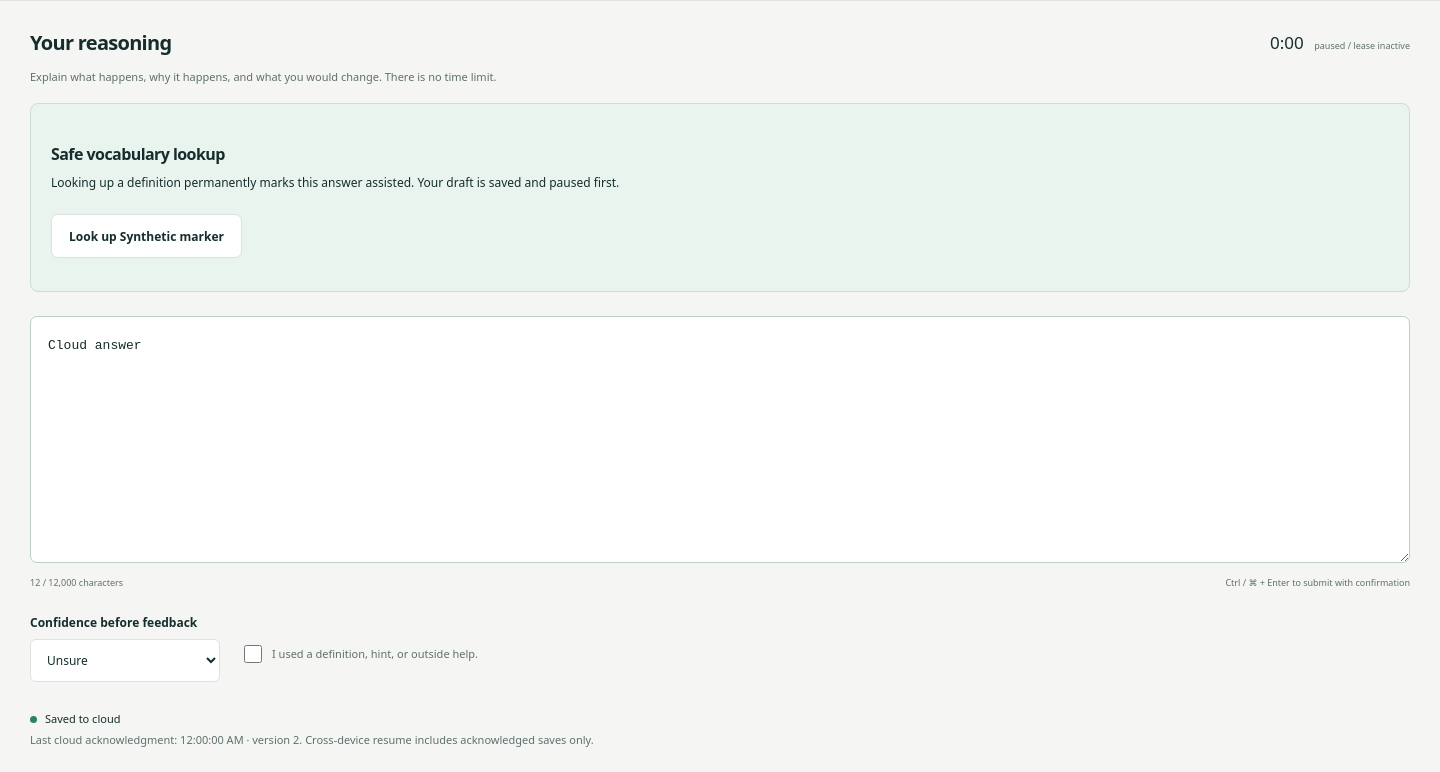
it: saves local reasoning before lookup and reveals a definition only after irreversible cloud assistance
The image size is (1440, 772).
Expected: the text box showing "Cloud answer" is shown, [30,316,1410,563]
Click the button "Look up Synthetic marker".
click(146, 236)  # box [51,214,242,258]
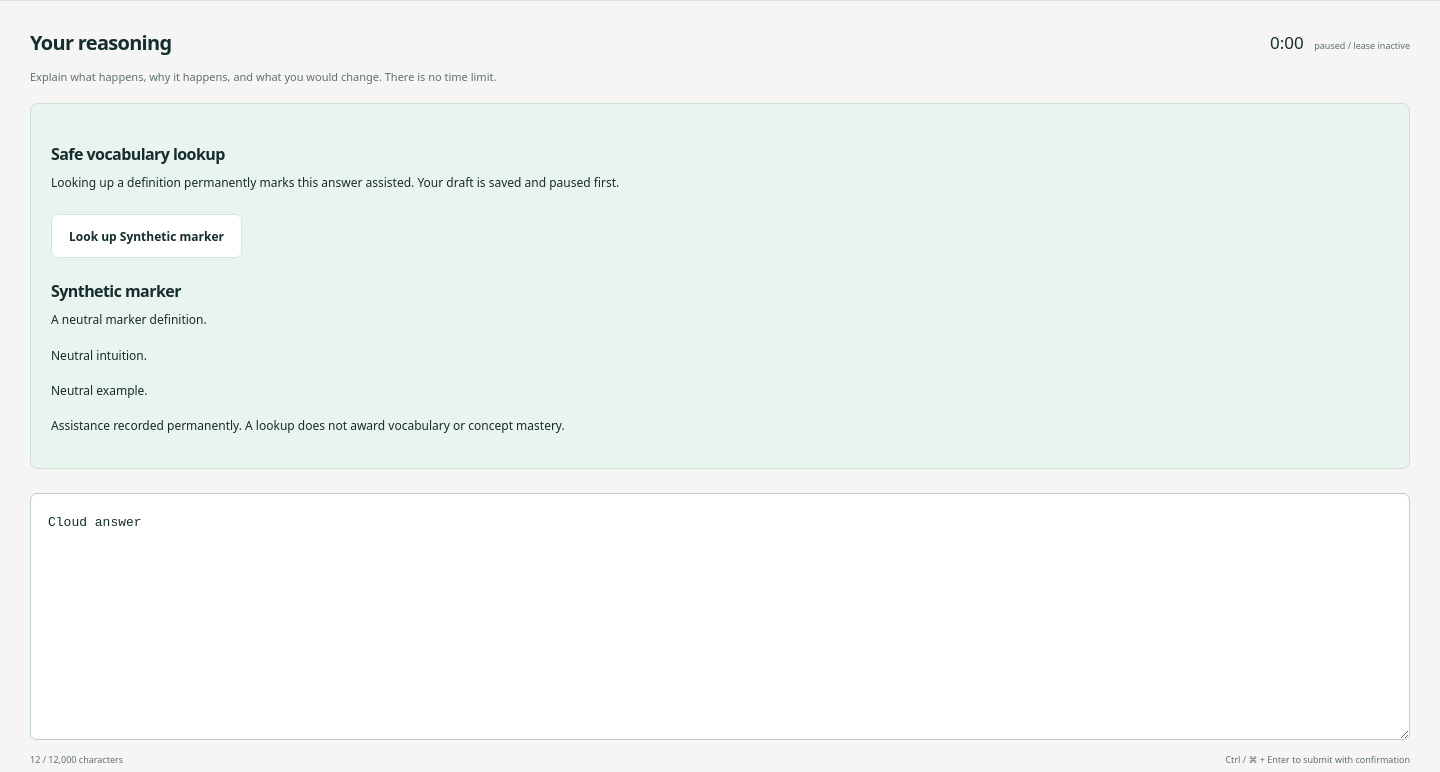
Result: the text "A neutral marker definition." is shown at [51,311,207,328]
